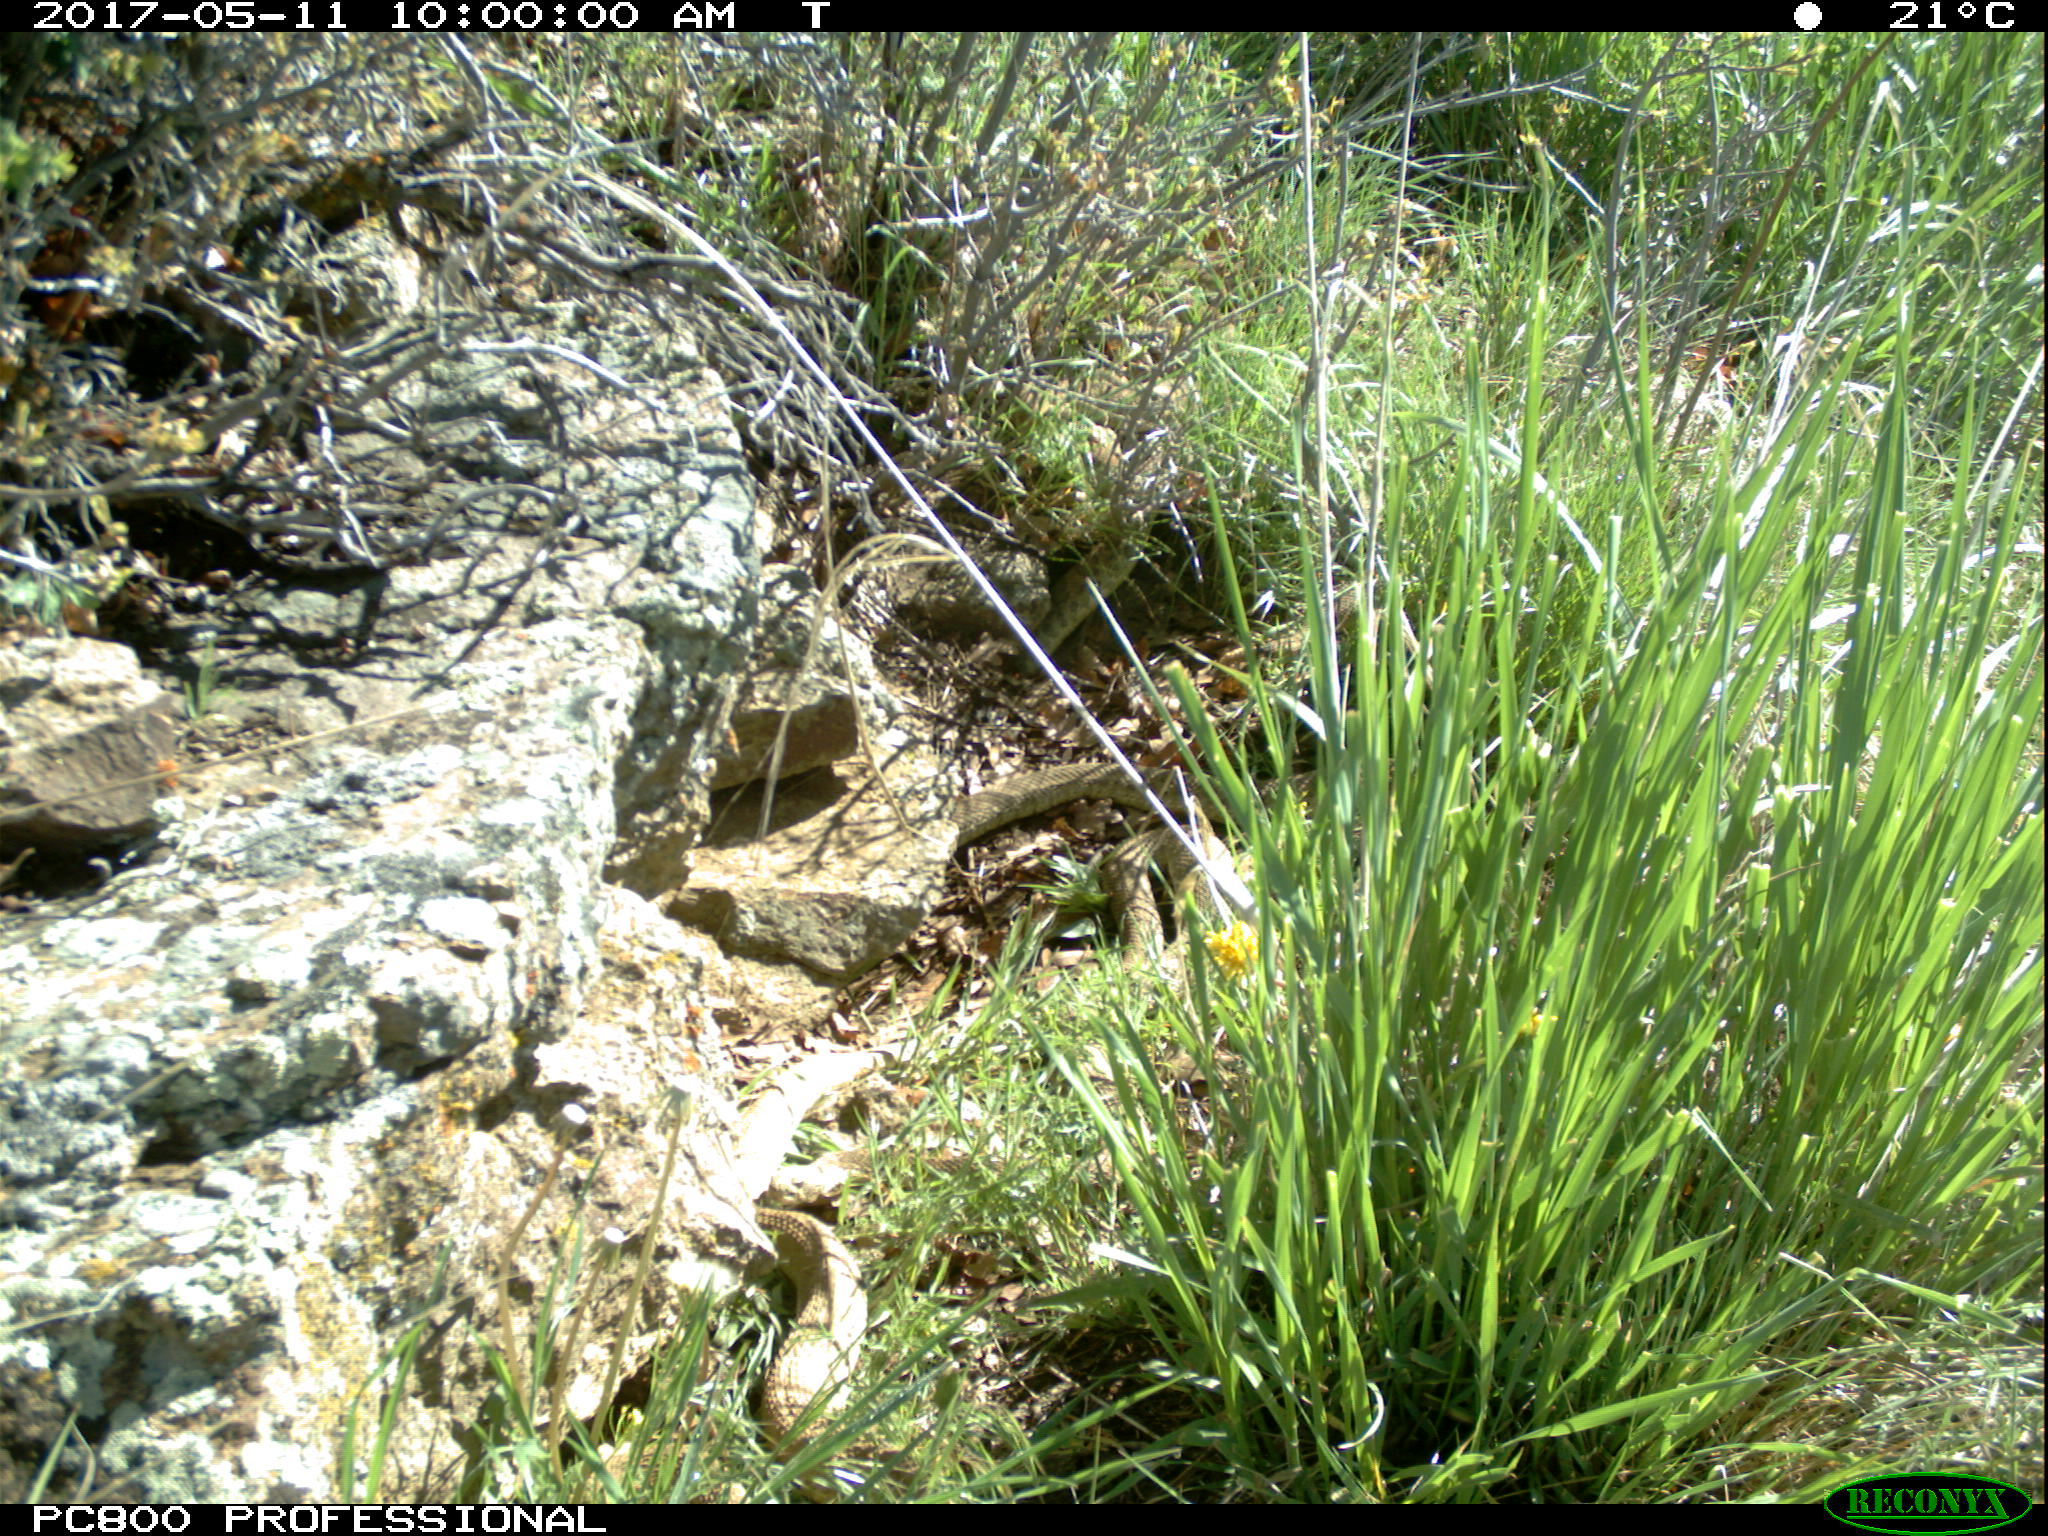snake: (745, 1204, 871, 1462), (937, 758, 1272, 844), (1101, 821, 1264, 962), (1013, 513, 1138, 674)
